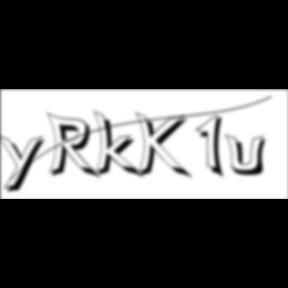1: (196, 114, 230, 182)
K: (135, 110, 194, 182)
R: (47, 112, 104, 182)
k: (94, 108, 146, 181)
u: (225, 132, 273, 178)
y: (0, 132, 50, 196)
